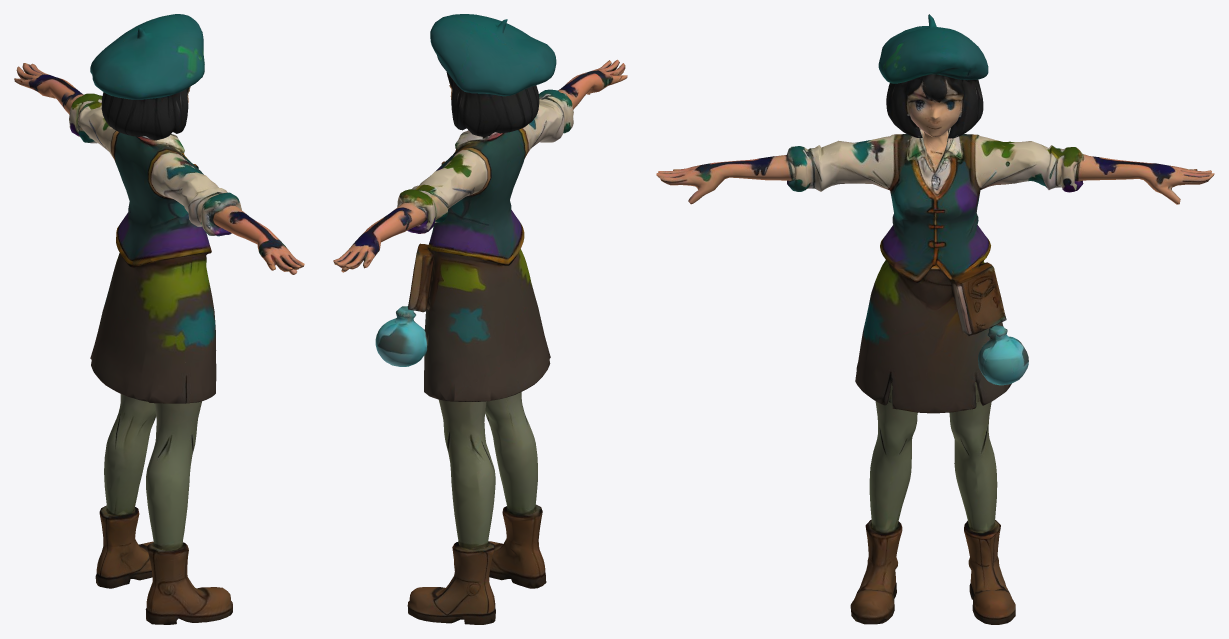
Rendered from n2_scribe.08ee926a.glb.
3 renders of one model, left to right at view 1: azimuth 30°, elevation 25°; view 2: azimuth 150°, elevation 25°; view 3: azimuth 270°, elevation 25°, orthographic.
Parts seen in each view (by area): view 1: tripo_node_ac9768f9-1628-4506-a4e9-e9d0a38d2f2d; view 2: tripo_node_ac9768f9-1628-4506-a4e9-e9d0a38d2f2d; view 3: tripo_node_ac9768f9-1628-4506-a4e9-e9d0a38d2f2d.
Boxes of the visible parts, x1=… form: tripo_node_ac9768f9-1628-4506-a4e9-e9d0a38d2f2d: x1=14, y1=14, x2=304, y2=624; tripo_node_ac9768f9-1628-4506-a4e9-e9d0a38d2f2d: x1=333, y1=14, x2=627, y2=624; tripo_node_ac9768f9-1628-4506-a4e9-e9d0a38d2f2d: x1=656, y1=14, x2=1214, y2=624.
Size of the model in its own units: 0.2413 by 0.9986 by 0.8713.
1 material, 1 textured.
